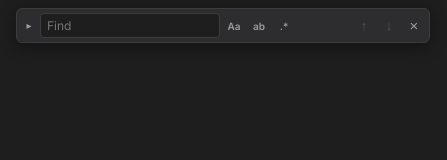
Test case: FindWidget › shows the replace row when the expand button is clicked
The image size is (447, 160).
Click the button titled "Toggle Replace". click: (29, 26)
box: [21,14,37,38]
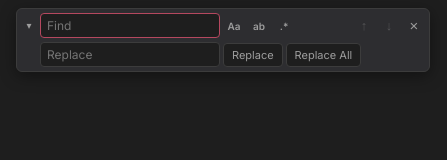
Expected: the field with placeholder "Replace" is shown, [40,42,220,67]
